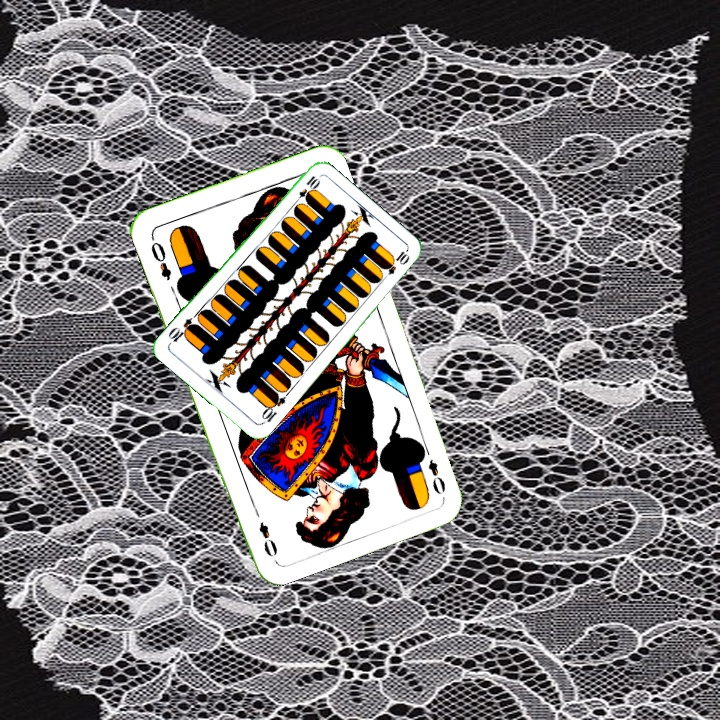E10: (257, 389, 288, 427), (290, 172, 321, 208)
EO: (418, 441, 448, 498), (146, 233, 174, 283)
